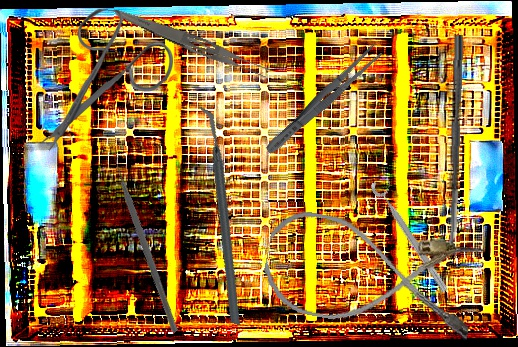Cannula: (257, 205, 485, 346)
Chopper: (54, 148, 245, 334), (139, 106, 300, 326)
Dressing Forceps: (261, 41, 385, 159), (111, 5, 274, 83)
Fixation Ring: (368, 174, 458, 295)
Iris Scissors: (40, 8, 174, 153)
Surgical Spoon: (445, 34, 464, 258)
